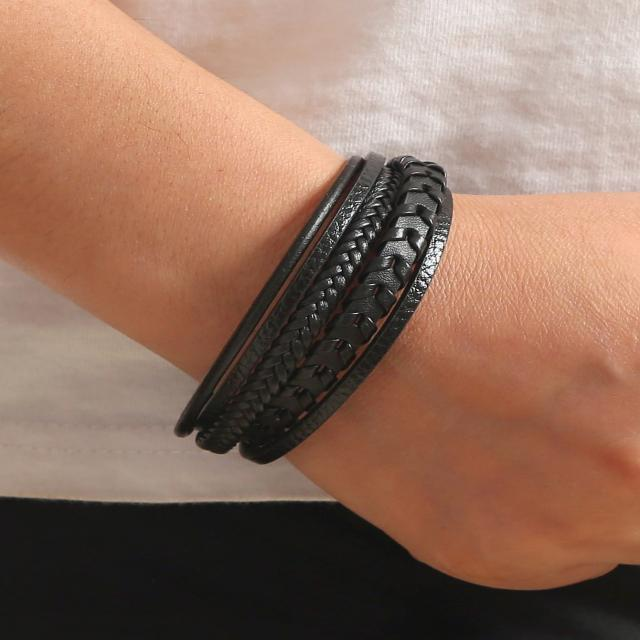bracelet: (102, 63, 512, 530)
